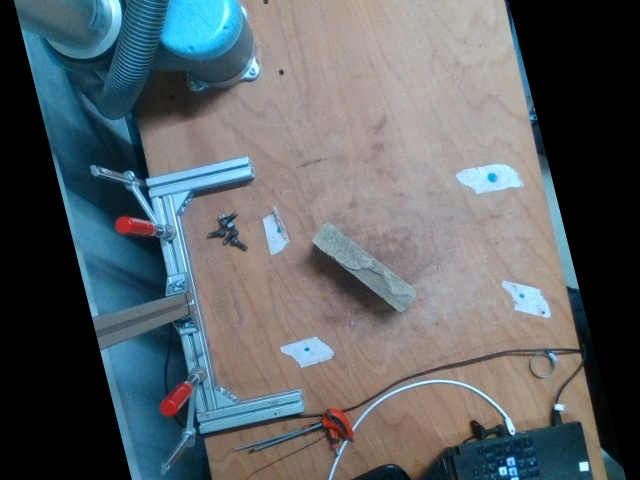brick-side: (315, 223, 412, 308)
